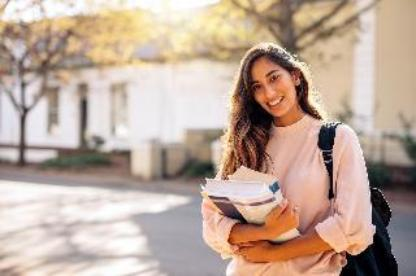bag: (338, 160, 402, 276)
person: (195, 35, 404, 276)
